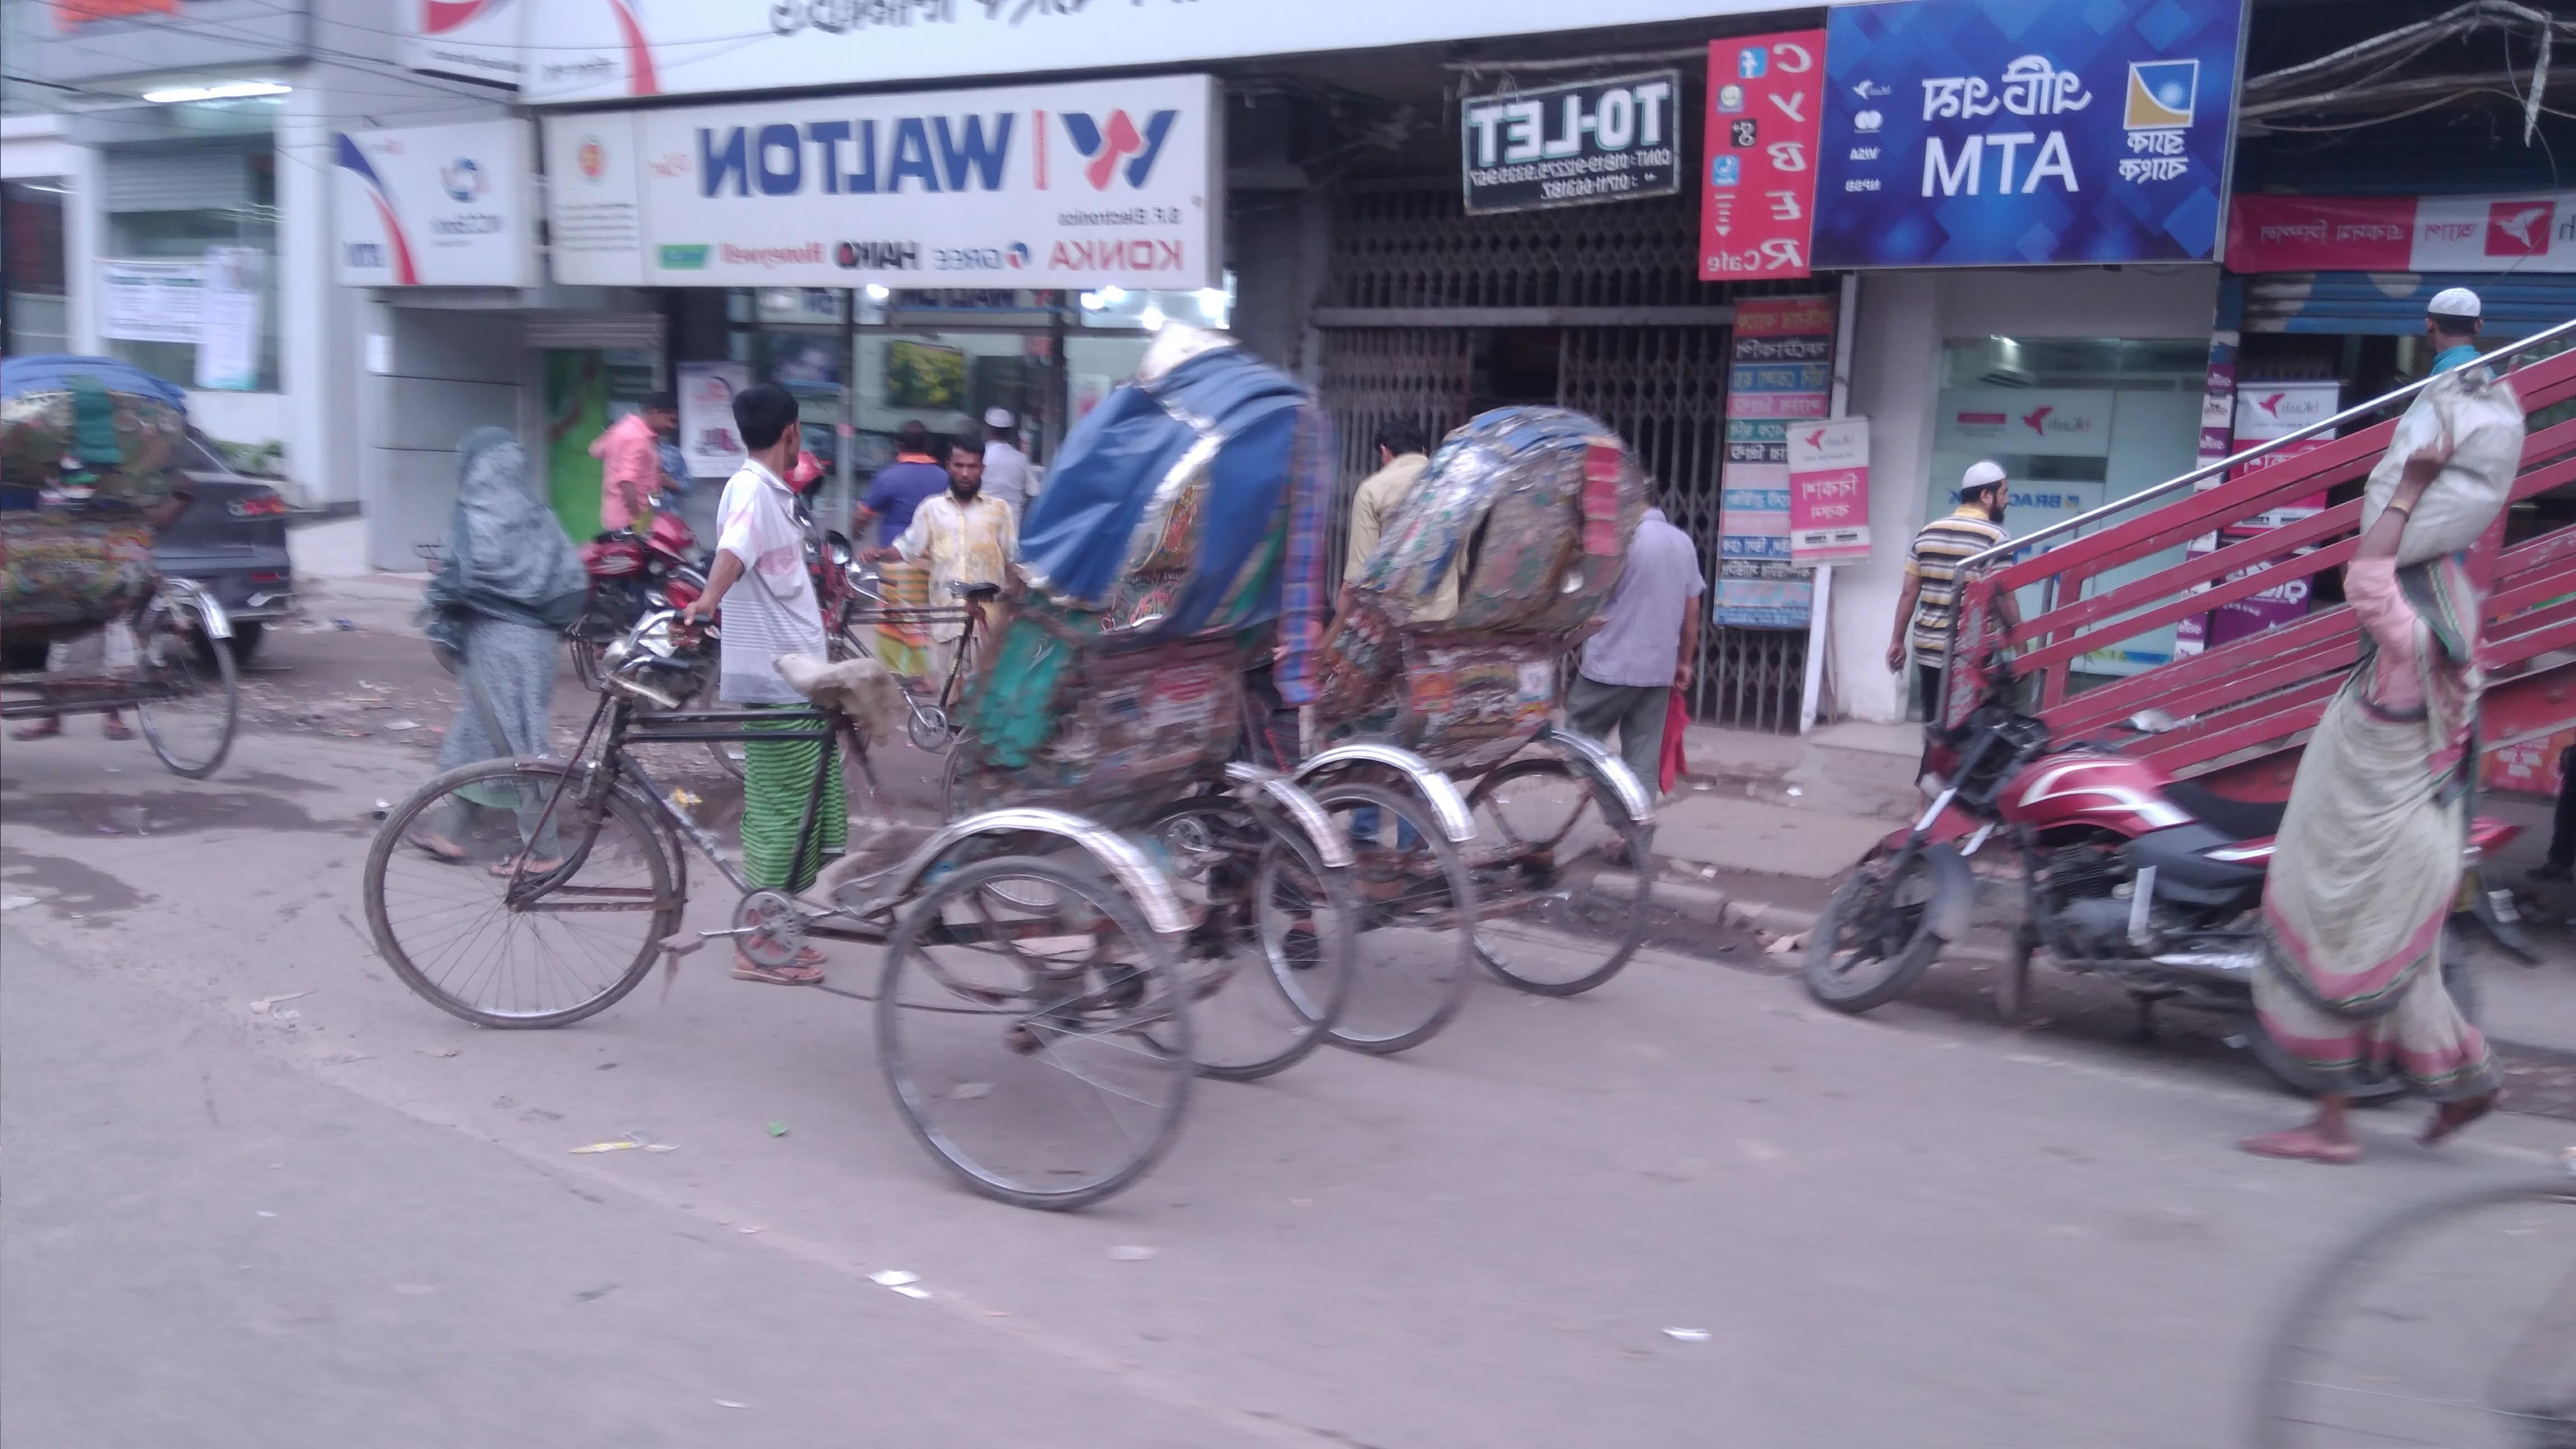Rickshaw: (403, 333, 1336, 1214), (1334, 402, 1677, 1070), (11, 317, 264, 784)
